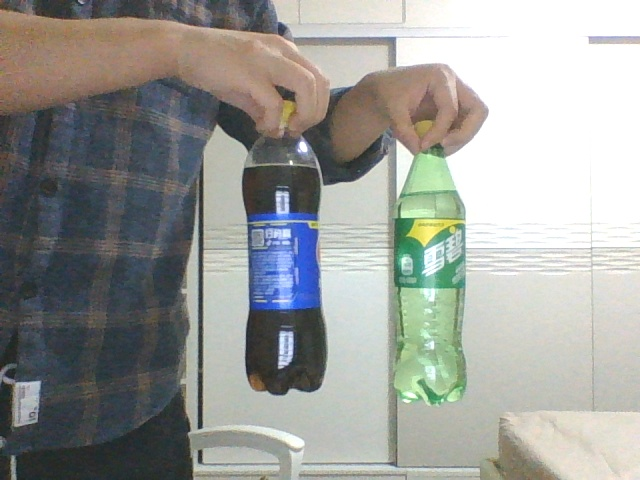Cola: (241, 99, 328, 394)
Sprite: (394, 119, 469, 406)
